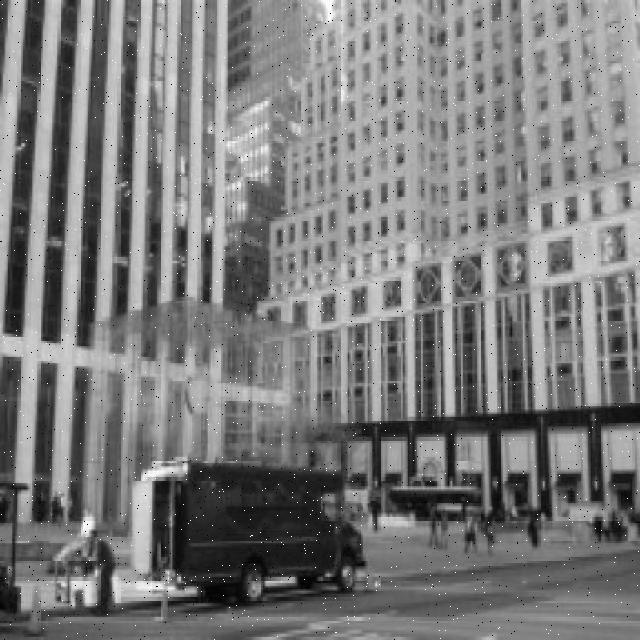Box Truck: (131, 462, 368, 599)
